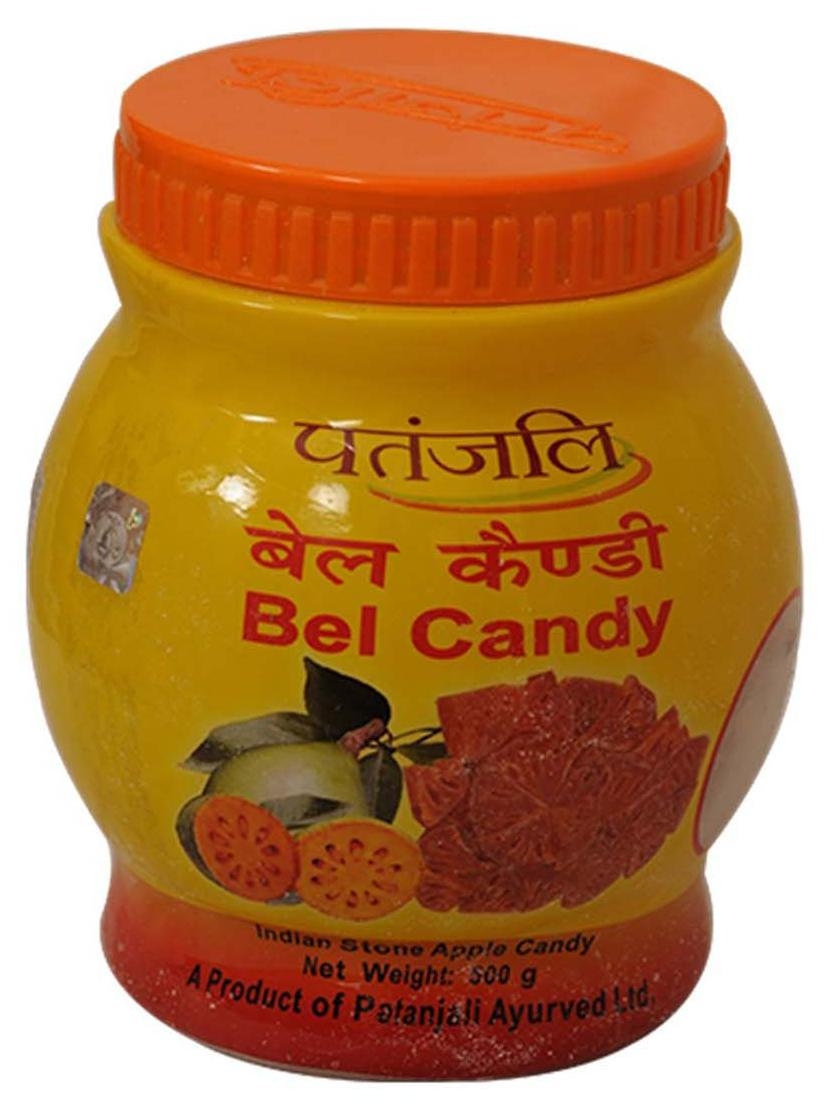JAR: (15, 19, 817, 1093)
